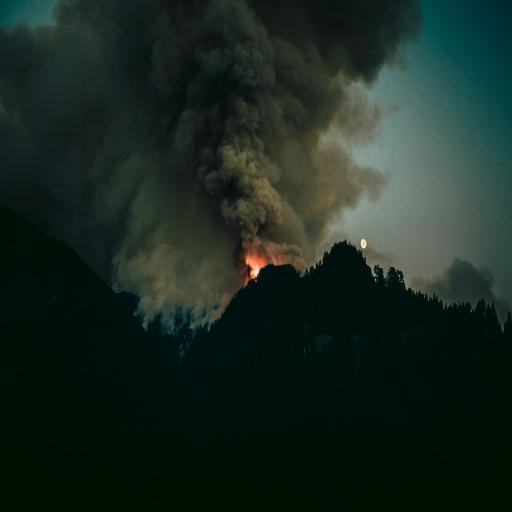wildfire: (0, 0, 382, 302)
